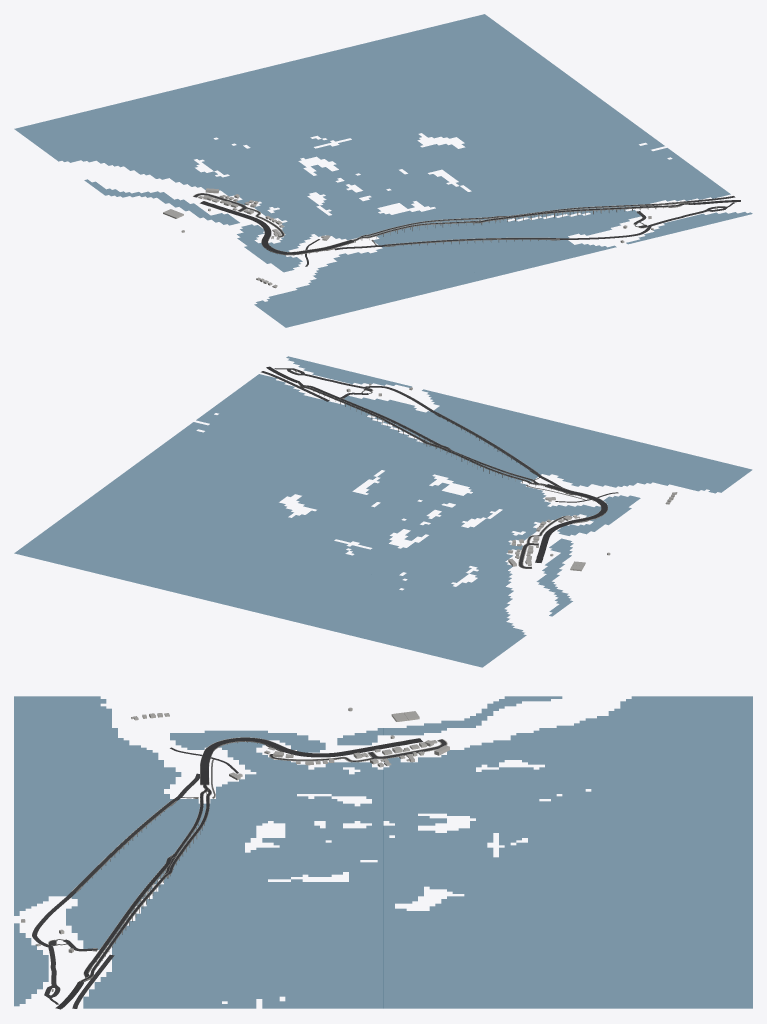
Rendered from chunk_5_8.glb.
The picture shows the model from 3 angles, top to bottom: view 1: azimuth 30°, elevation 25°; view 2: azimuth 150°, elevation 25°; view 3: azimuth 270°, elevation 25°; orthographic projection. The views are drawn at different scales.
Visible parts, largest first — view 1: Water_5_8, Roads_5_8, RoadSides_5_8, Filler_5_8; view 2: Water_5_8, Roads_5_8, RoadSides_5_8, Filler_5_8; view 3: Water_5_8, Roads_5_8, RoadSides_5_8, Filler_5_8.
Part boxes in pixels (bbox=[...]): Water_5_8: bbox=[14, 14, 752, 327]; Roads_5_8: bbox=[193, 193, 740, 266]; RoadSides_5_8: bbox=[193, 193, 693, 255]; Filler_5_8: bbox=[198, 188, 283, 288]; Water_5_8: bbox=[14, 356, 751, 667]; Roads_5_8: bbox=[261, 366, 618, 568]; RoadSides_5_8: bbox=[297, 382, 607, 568]; Filler_5_8: bbox=[508, 492, 677, 566]; Water_5_8: bbox=[14, 696, 752, 1008]; Roads_5_8: bbox=[32, 737, 446, 1009]; RoadSides_5_8: bbox=[48, 737, 447, 981]; Filler_5_8: bbox=[131, 713, 449, 767].
Size of the model in its own units: 2055 by 24.46 by 2048.
